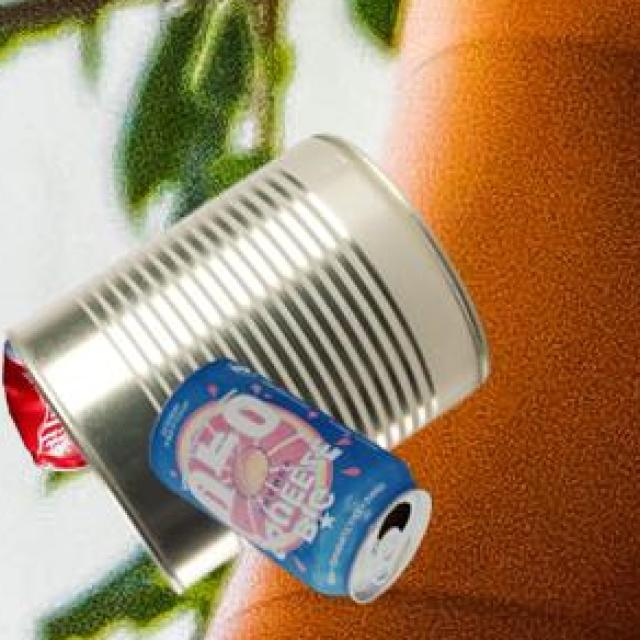logam: (12, 130, 492, 591), (152, 356, 435, 599), (8, 336, 91, 468)
